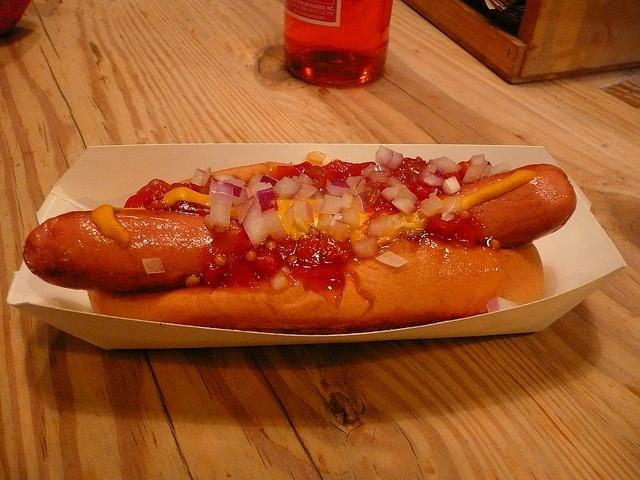onion: (242, 201, 282, 246), (317, 214, 348, 242), (208, 194, 232, 229), (234, 195, 262, 224), (462, 160, 492, 184), (374, 146, 404, 170), (427, 156, 462, 176), (439, 196, 463, 222), (274, 177, 302, 199), (374, 250, 408, 268), (487, 297, 522, 313), (352, 237, 378, 258), (368, 212, 389, 238), (257, 188, 278, 213), (420, 194, 443, 216), (293, 200, 314, 224), (318, 194, 343, 214), (291, 182, 317, 201), (326, 178, 350, 198), (270, 270, 290, 291), (397, 186, 418, 206), (392, 197, 415, 215), (442, 176, 462, 196), (340, 208, 360, 228), (210, 181, 233, 198), (142, 258, 166, 274), (252, 182, 274, 199), (282, 204, 296, 230), (304, 150, 326, 166), (386, 213, 408, 229), (350, 194, 367, 214), (380, 187, 402, 201), (190, 168, 207, 186), (422, 172, 442, 186), (351, 178, 366, 196), (382, 176, 404, 188), (345, 176, 365, 189), (339, 192, 354, 209), (421, 164, 438, 178), (369, 171, 388, 183), (247, 174, 263, 188), (298, 172, 313, 186), (223, 180, 246, 189), (470, 154, 484, 166), (292, 176, 302, 185), (268, 176, 280, 182), (256, 182, 266, 186)
